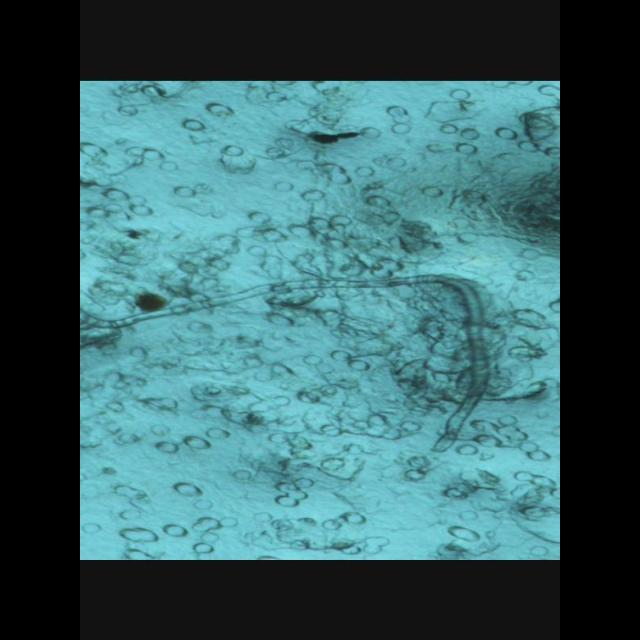Fibre: (80, 266, 548, 452)
